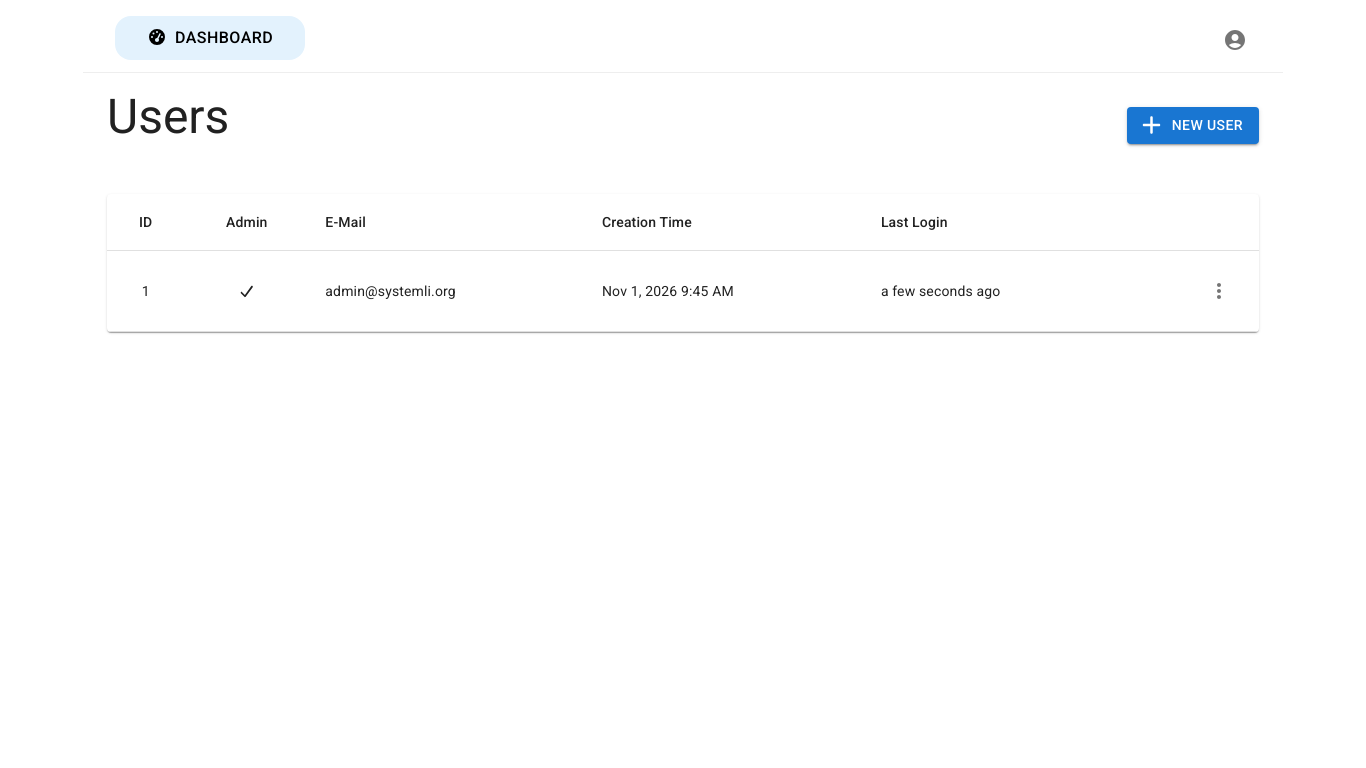
it: UsersView › open dialog for existing user
Check: the text "admin@systemli.org" is shown, box [309,250,586,331]
Click the button with test id "usermenu". click: [1219, 291]
box: [1195,267,1243,315]
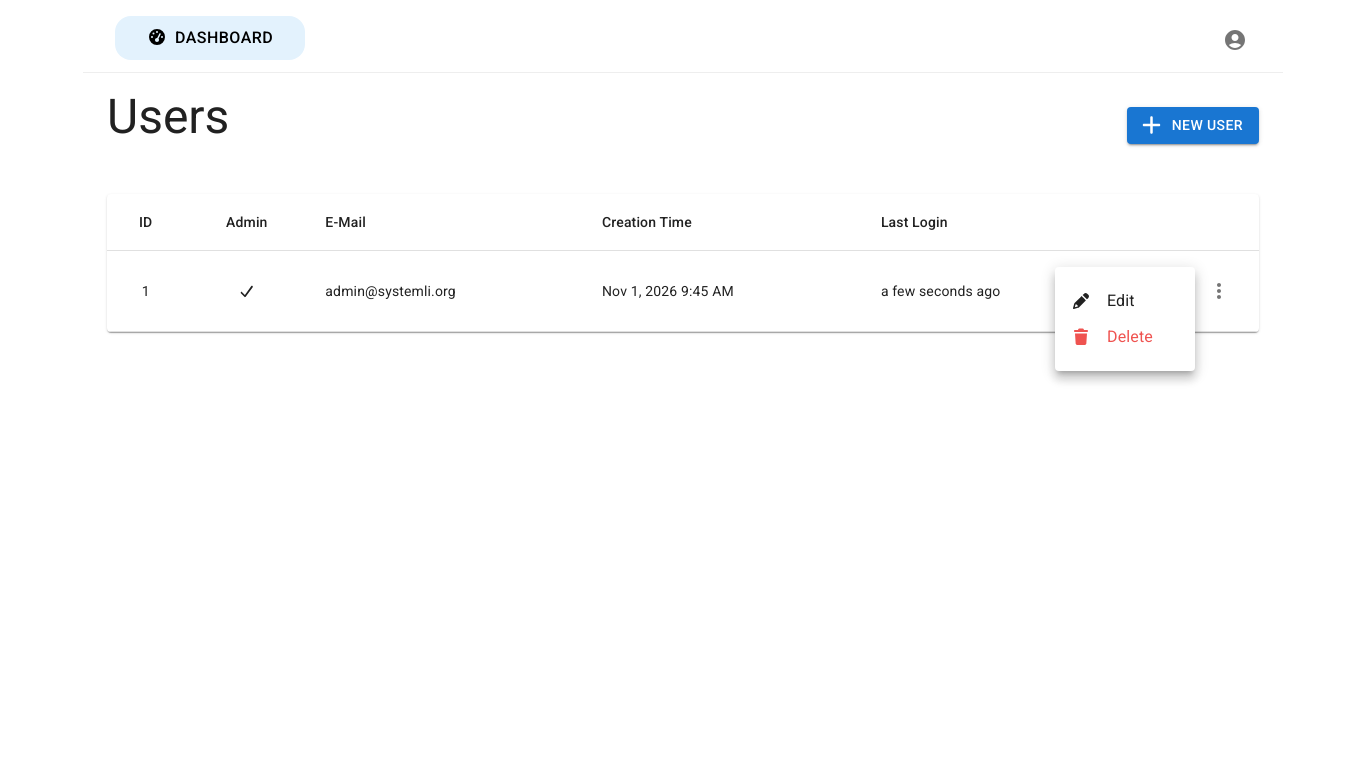
Check: the menu item with test id "usermenu-edit" is shown
Click the menu item with test id "usermenu-edit". click: [1081, 301]
box: [1071,291,1135,310]
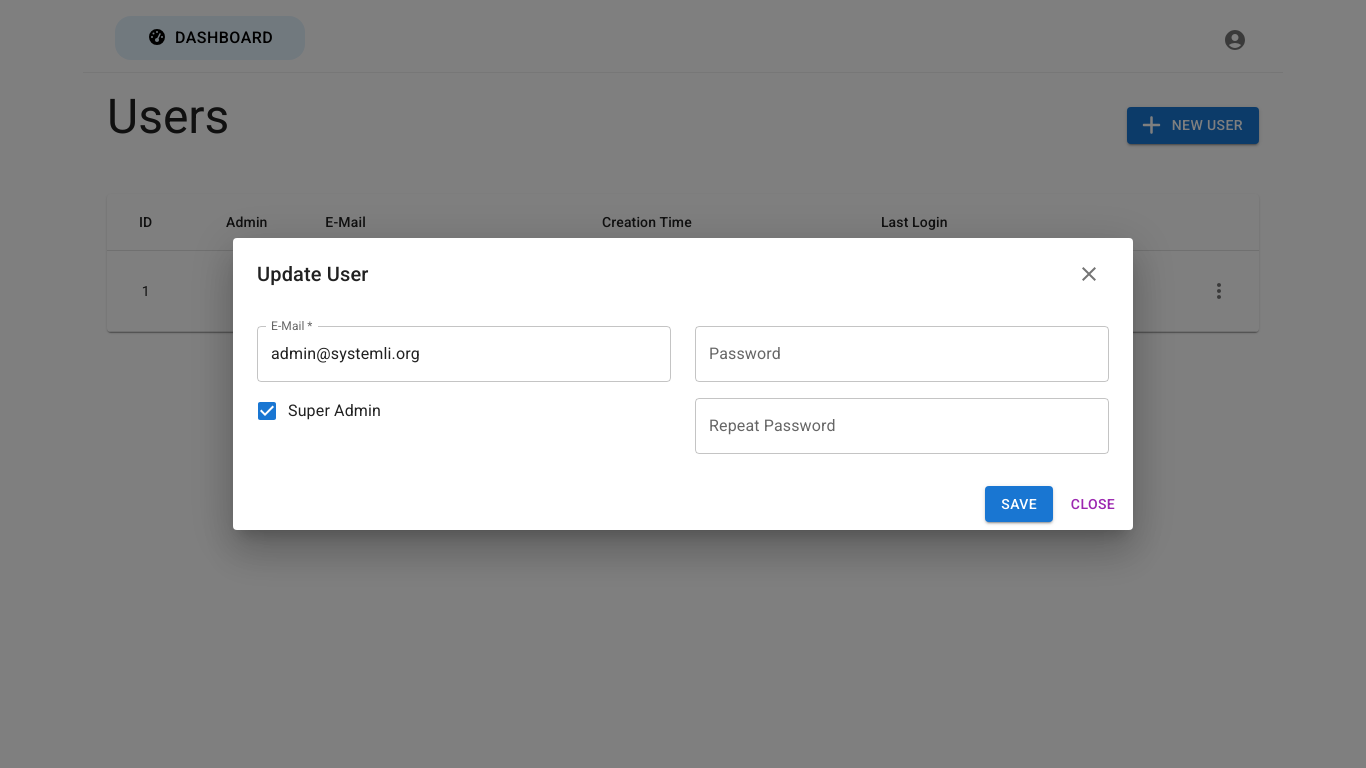
Check: the menu item with test id "usermenu-edit" is gone
Check: the text "Update User" is shown, box [257,254,1109,294]
Check: the button "Close" is shown
Click the button "Close". click: [1093, 504]
box: [1061,486,1125,522]
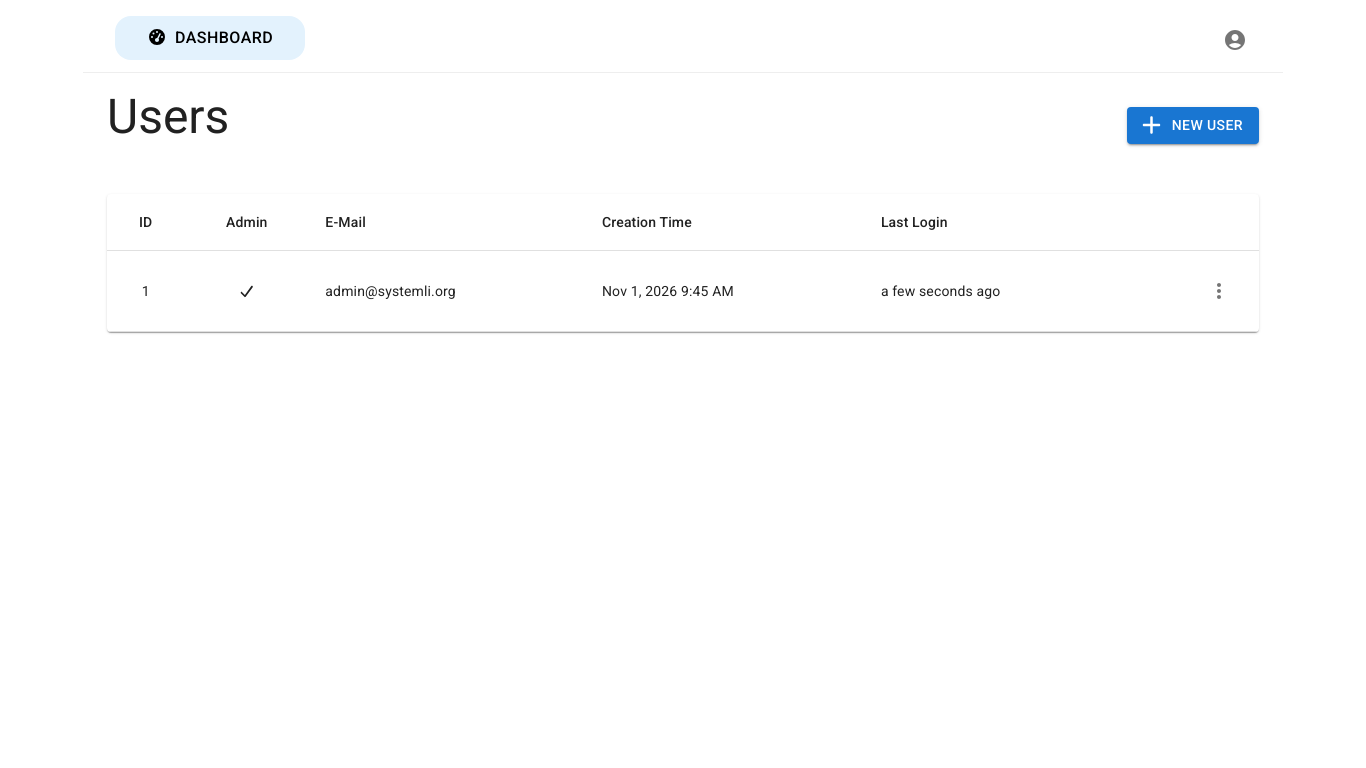
Check: the text "Update User" is gone
Click the button with test id "usermenu". click: [1219, 291]
box: [1195,267,1243,315]
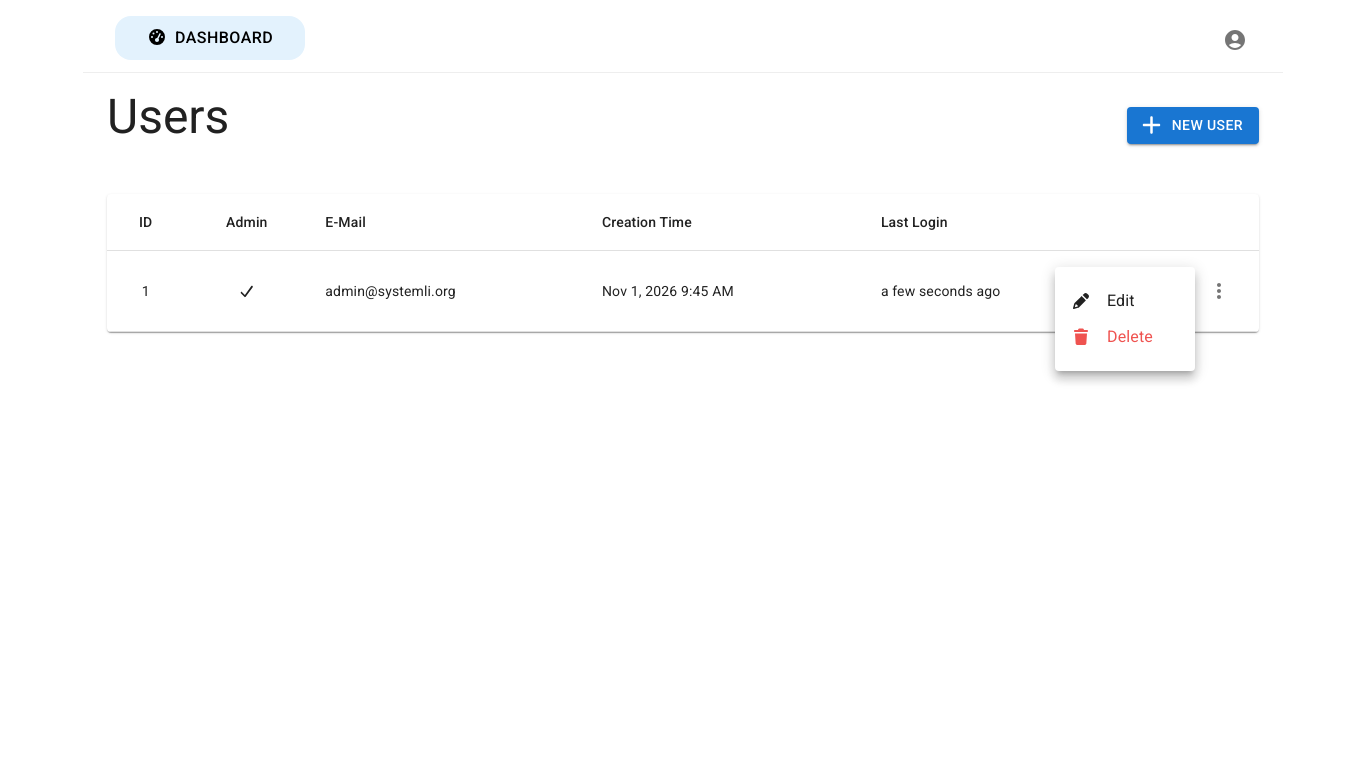
Check: the menu item with test id "usermenu-delete" is shown
Click the menu item with test id "usermenu-delete". click: [1112, 336]
box: [1071,327,1153,346]
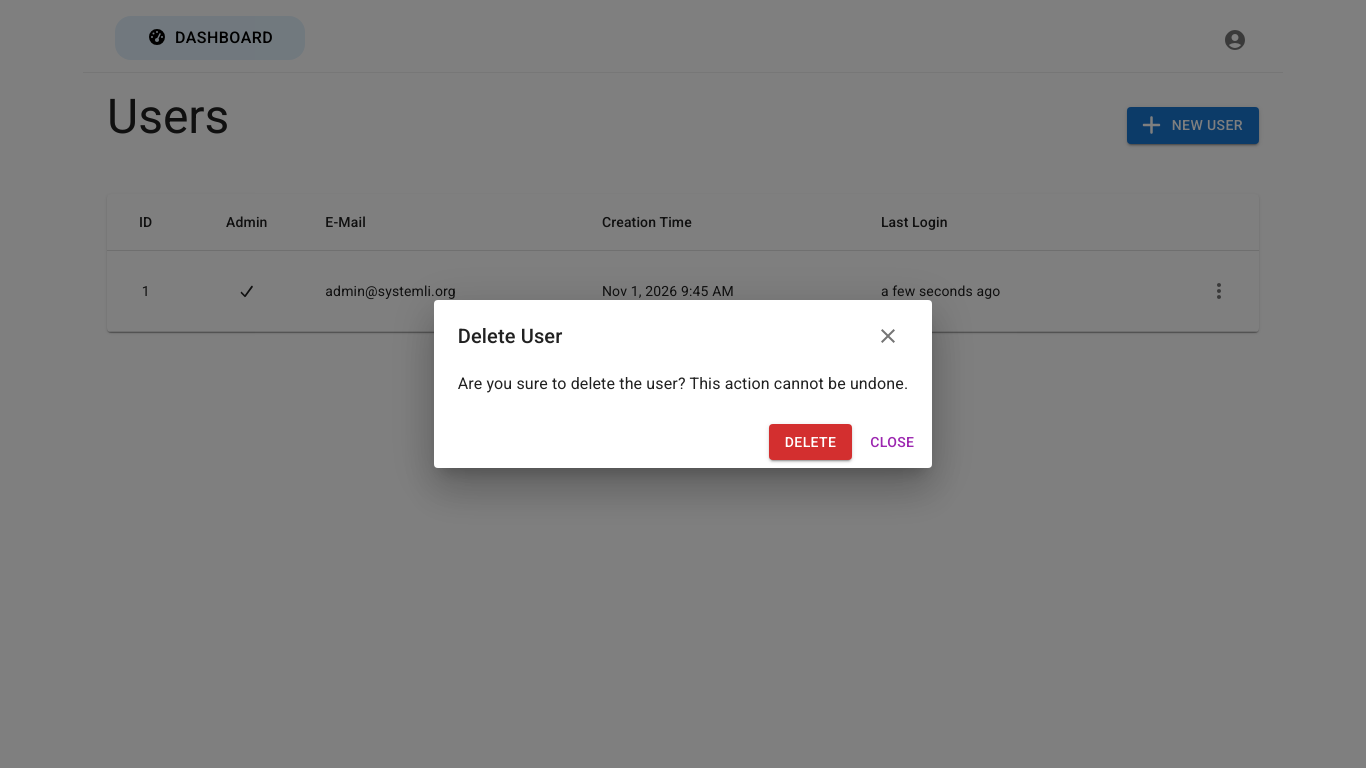
Check: the menu item with test id "usermenu-delete" is gone
Check: the text "Delete User" is shown, box [458,316,908,356]
Check: the button "Close" is shown
Click the button "Close". click: [892, 442]
box: [860,424,924,460]
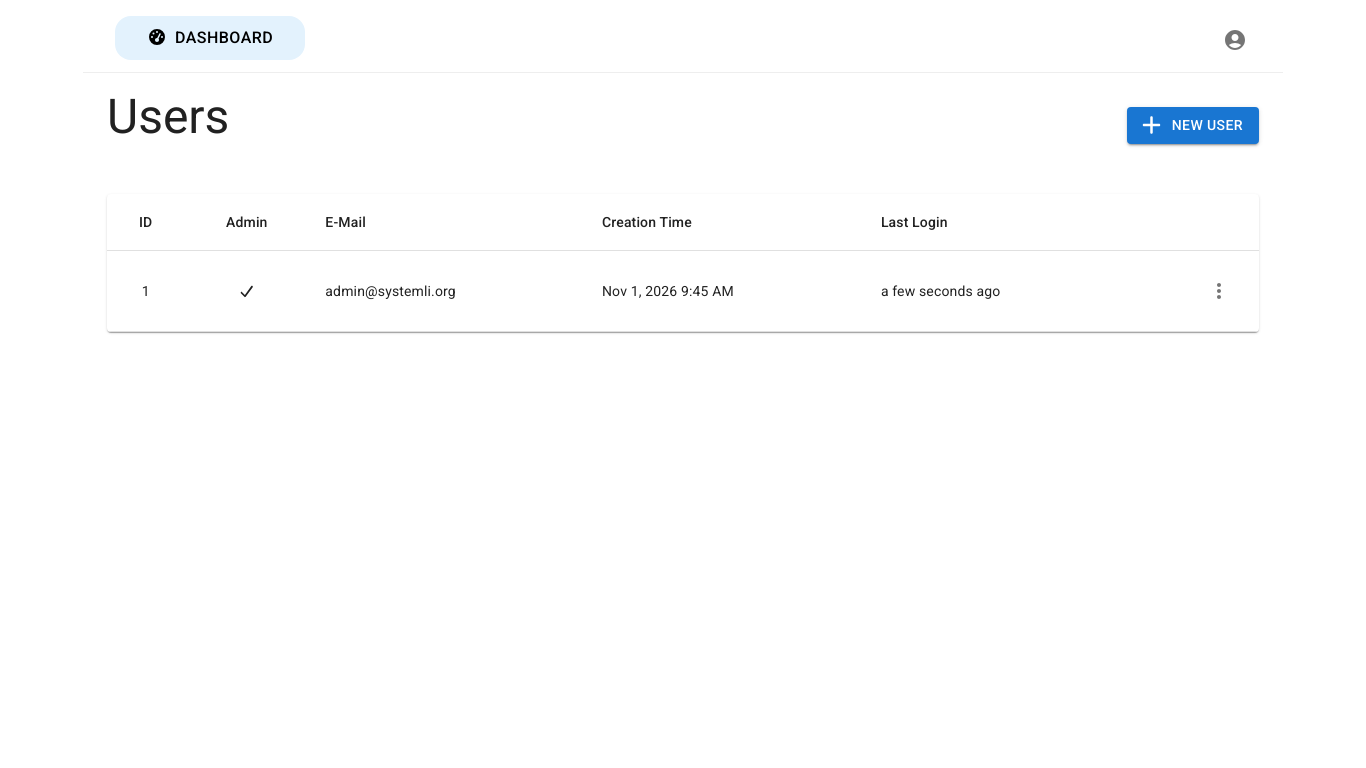
Check: the button "Close" is gone
